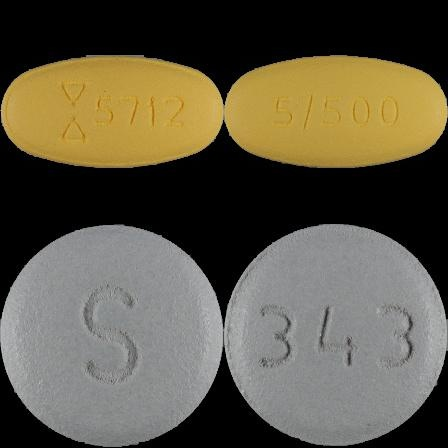45865-710: (0, 0, 224, 224)
